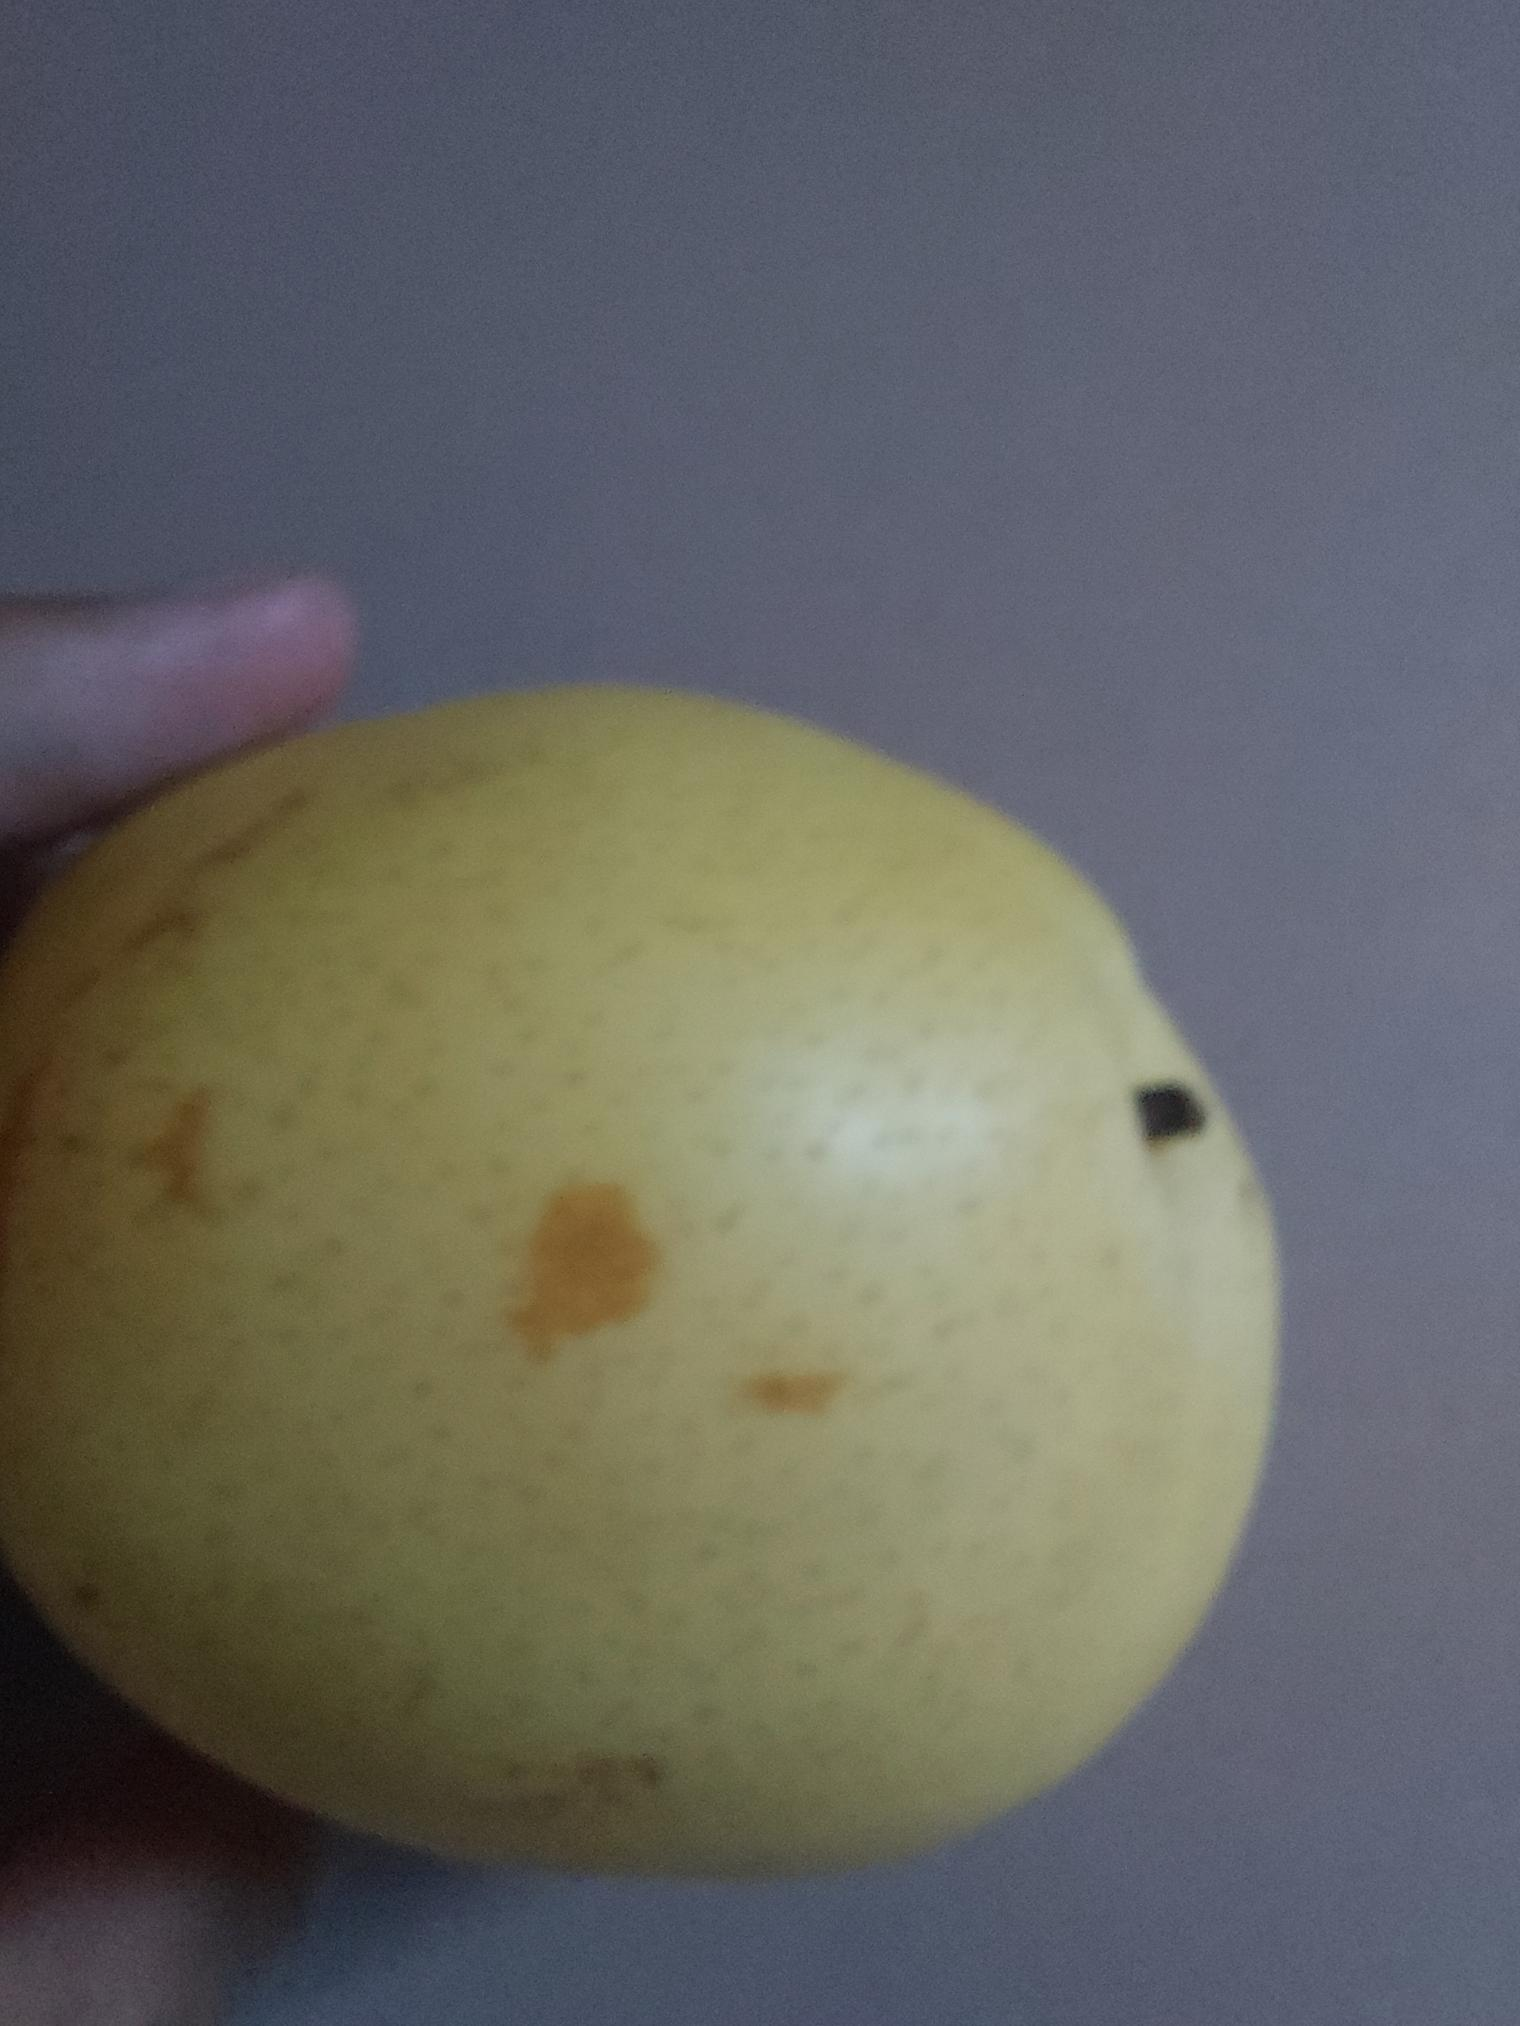Good Pear: (0, 682, 1285, 1886)
